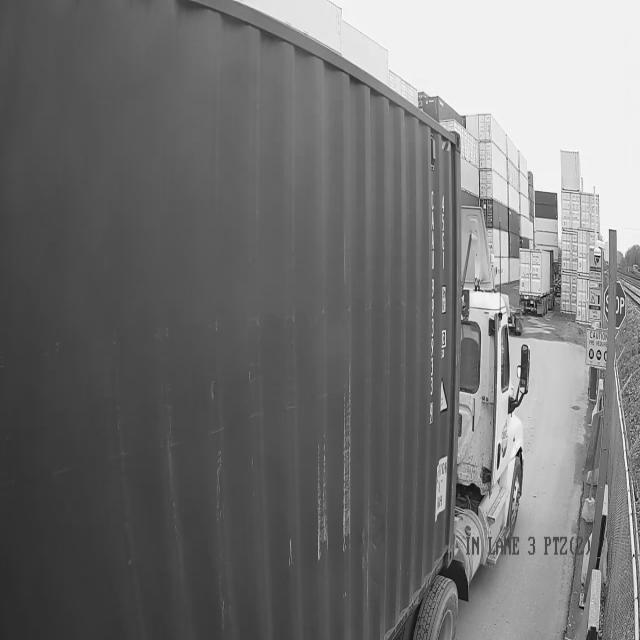container_side_no: (427, 181, 438, 403)
truck_with_container: (0, 0, 534, 639)
